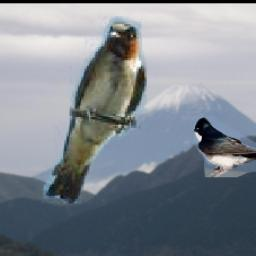Swallow: (41, 18, 145, 205), (193, 116, 256, 177)
